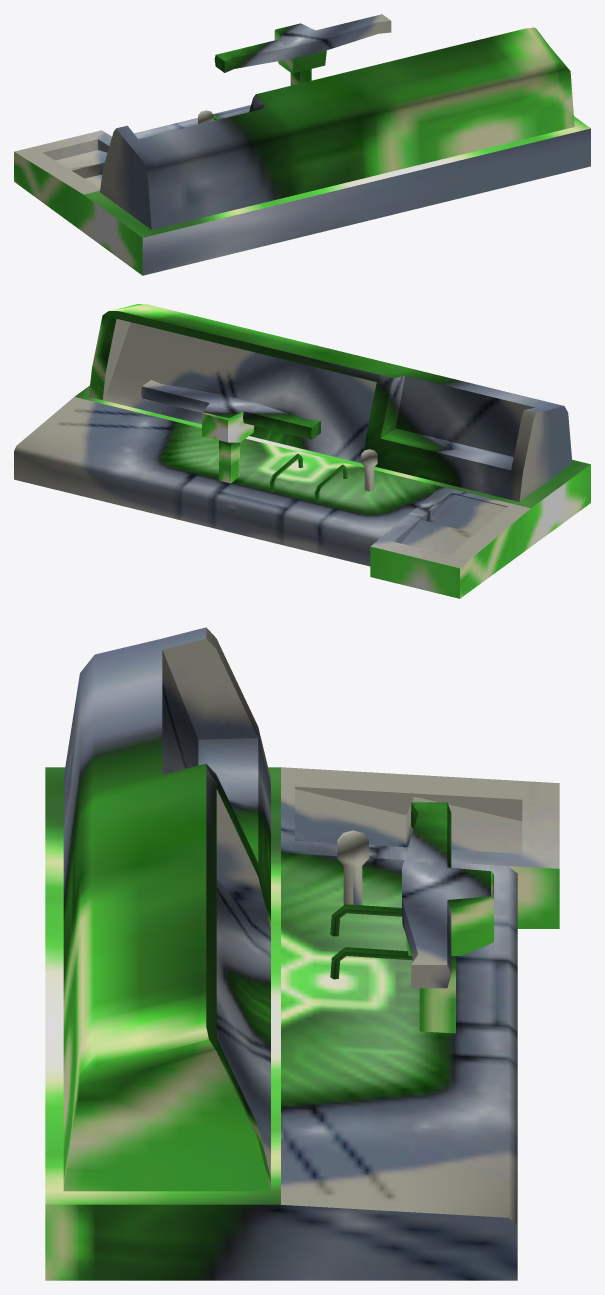
The model's file is icon.ico.obj.
3 views of the same model, one above another, from view 1: azimuth 30°, elevation 25°; view 2: azimuth 150°, elevation 25°; view 3: azimuth 270°, elevation 25° (orthographic). The views are drawn at different scales.
Size of the model in its own units: 4.3 by 1.05 by 2.14.
